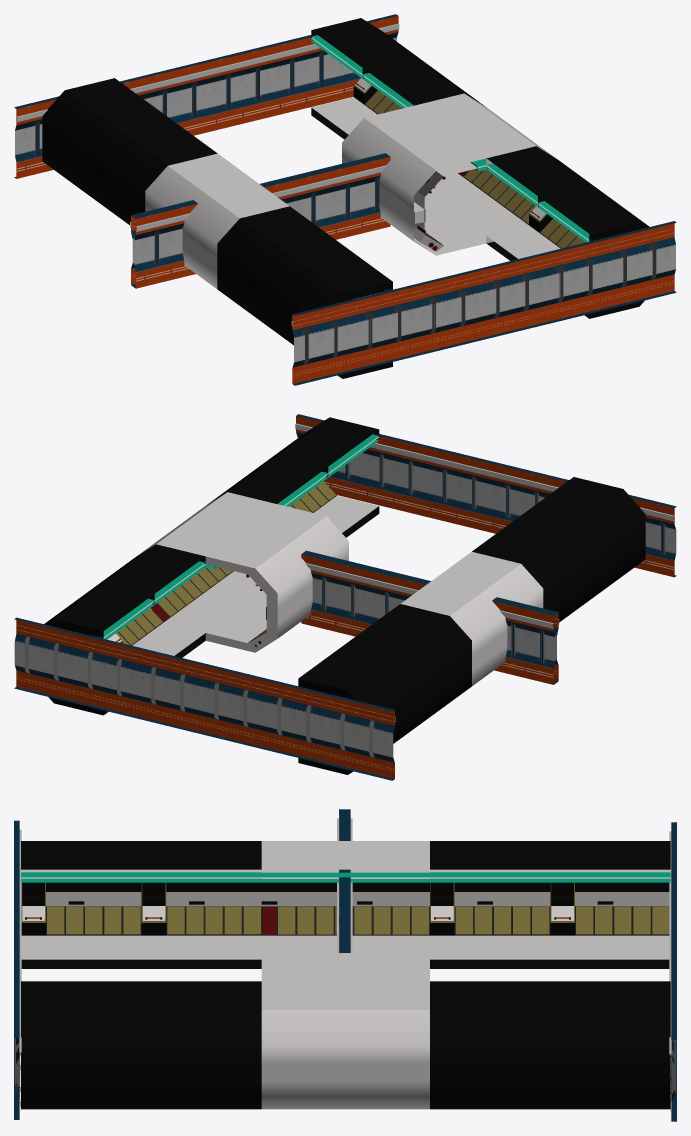
Rendered from env_full.fbx.
3 views of the same model, one above another, from view 1: azimuth 30°, elevation 25°; view 2: azimuth 150°, elevation 25°; view 3: azimuth 270°, elevation 25° (orthographic). The views are drawn at different scales.
Visible parts, largest first — view 1: SE_flatwall_geo2 (×3), se_seg_2_geo2, SE_flatwall_geo1 (×3), se_seg_2_geo, se_seg_2_geo1, SE_flatwall_geo (×2), SE_seg_1_geo6, SE_seg_1_geo4, SE_seg_1_geo5, SE_seg_1_geo7, SE_seg_1_geo2, SE_flatwall_geo3 (×2) (+7 smaller); view 2: SE_flatwall_geo1 (×3), se_seg_2_geo2, SE_flatwall_geo2 (×3), se_seg_2_geo, se_seg_2_geo1, SE_flatwall_geo3 (×2), SE_seg_1_geo7, SE_seg_1_geo5, SE_seg_1_geo6, SE_seg_1_geo4, SE_flatwall_geo (×2), SE_seg_1_geo1 (+7 smaller); view 3: se_seg_2_geo, se_seg_2_geo1, SE_seg_1_geo2, SE_seg_1_geo1, SE_seg_1_geo3, SE_seg_1_geo, SE_seg_1_geo5, SE_seg_1_geo6, SE_seg_1_geo7, SE_seg_1_geo4, se_seg_2_geo2, SE_flatwall_geo3 (+1 smaller).
Part boxes in pixels (x1=…): SE_flatwall_geo2 (×3): x1=269, y1=35, x2=549, y2=338; se_seg_2_geo2: x1=342, y1=105, x2=485, y2=255; SE_flatwall_geo1 (×3): x1=205, y1=45, x2=612, y2=323; se_seg_2_geo: x1=415, y1=93, x2=555, y2=243; se_seg_2_geo1: x1=145, y1=153, x2=289, y2=288; SE_flatwall_geo (×2): x1=141, y1=61, x2=676, y2=307; SE_seg_1_geo6: x1=217, y1=206, x2=340, y2=326; SE_seg_1_geo4: x1=42, y1=78, x2=165, y2=198; SE_seg_1_geo5: x1=94, y1=116, x2=217, y2=224; SE_seg_1_geo7: x1=269, y1=244, x2=392, y2=378; SE_seg_1_geo2: x1=486, y1=146, x2=607, y2=260; SE_flatwall_geo3 (×2): x1=333, y1=14, x2=485, y2=354; SE_flatwall_geo1 (×3): x1=140, y1=434, x2=423, y2=734; se_seg_2_geo2: x1=205, y1=504, x2=348, y2=652; SE_flatwall_geo2 (×3): x1=77, y1=445, x2=487, y2=719; se_seg_2_geo: x1=136, y1=492, x2=276, y2=632; se_seg_2_geo1: x1=400, y1=551, x2=543, y2=685; SE_flatwall_geo3 (×2): x1=14, y1=460, x2=550, y2=703; SE_seg_1_geo7: x1=523, y1=477, x2=645, y2=596; SE_seg_1_geo5: x1=349, y1=604, x2=471, y2=723; SE_seg_1_geo6: x1=472, y1=514, x2=594, y2=622; SE_seg_1_geo4: x1=298, y1=641, x2=420, y2=774; SE_flatwall_geo (×2): x1=203, y1=414, x2=360, y2=749; SE_seg_1_geo1: x1=84, y1=544, x2=205, y2=657; se_seg_2_geo: x1=261, y1=981, x2=429, y2=1109; se_seg_2_geo1: x1=261, y1=841, x2=429, y2=952; SE_seg_1_geo2: x1=141, y1=981, x2=261, y2=1109; SE_seg_1_geo1: x1=430, y1=981, x2=550, y2=1109; SE_seg_1_geo3: x1=21, y1=981, x2=141, y2=1109; SE_seg_1_geo: x1=550, y1=981, x2=670, y2=1109; SE_seg_1_geo5: x1=430, y1=841, x2=550, y2=968; SE_seg_1_geo6: x1=141, y1=841, x2=261, y2=968; SE_seg_1_geo7: x1=21, y1=841, x2=141, y2=968; SE_seg_1_geo4: x1=550, y1=841, x2=670, y2=968; se_seg_2_geo2: x1=261, y1=953, x2=429, y2=981; SE_flatwall_geo3: x1=669, y1=1003, x2=676, y2=1121.
Size of the model in its own units: 1862 by 374 by 2261.
